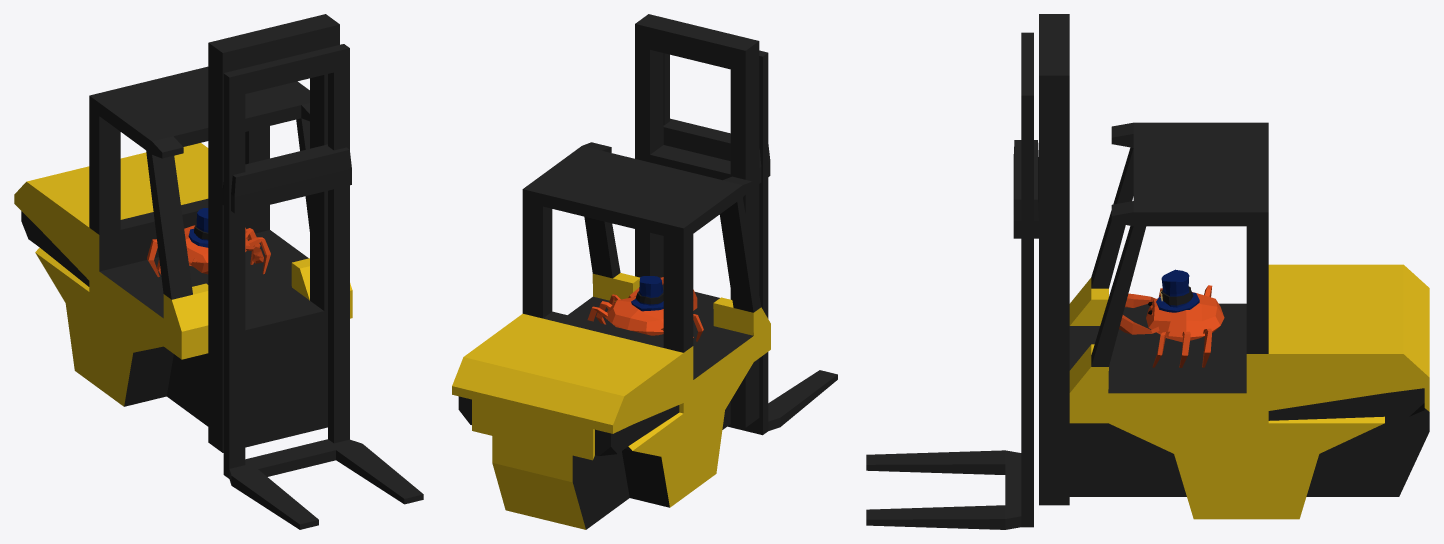
Rendered from forklift.glb.
3 renders of one model, left to right at view 1: azimuth 30°, elevation 25°; view 2: azimuth 150°, elevation 25°; view 3: azimuth 270°, elevation 25°, orthographic. The views are drawn at different scales.
Parts seen in each view (by area): view 1: forklift, forklift_fork, crab, Cylinder; view 2: forklift, forklift_fork, crab, Cylinder; view 3: forklift, forklift_fork, crab, Cylinder.
Boxes of the visible parts, x1,y1,x2,y2 form: forklift: [14, 14, 352, 452]; forklift_fork: [223, 44, 423, 529]; crab: [147, 225, 270, 277]; Cylinder: [188, 208, 208, 247]; forklift: [452, 14, 770, 529]; forklift_fork: [663, 50, 837, 435]; crab: [587, 277, 703, 341]; Cylinder: [631, 276, 663, 311]; forklift: [1013, 14, 1429, 519]; forklift_fork: [866, 32, 1033, 529]; crab: [1119, 285, 1224, 367]; Cylinder: [1156, 269, 1199, 312].
Bounding box in the file's own units: 4 × 9.39 × 10.63.
